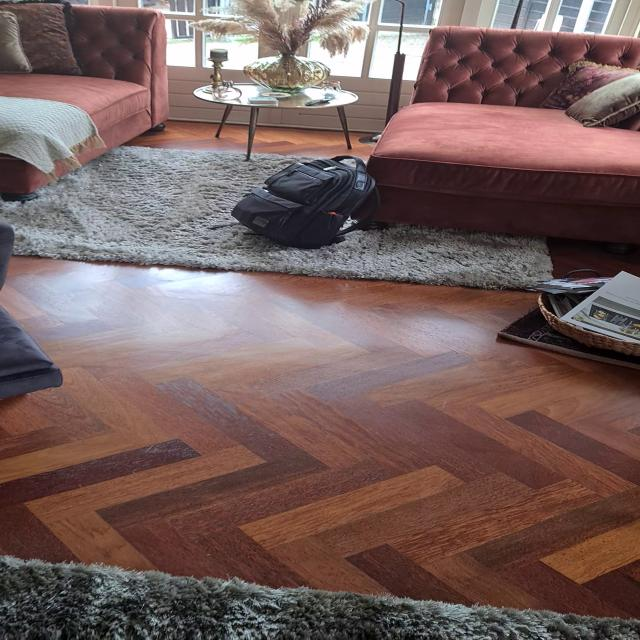backpack: (225, 152, 387, 250)
